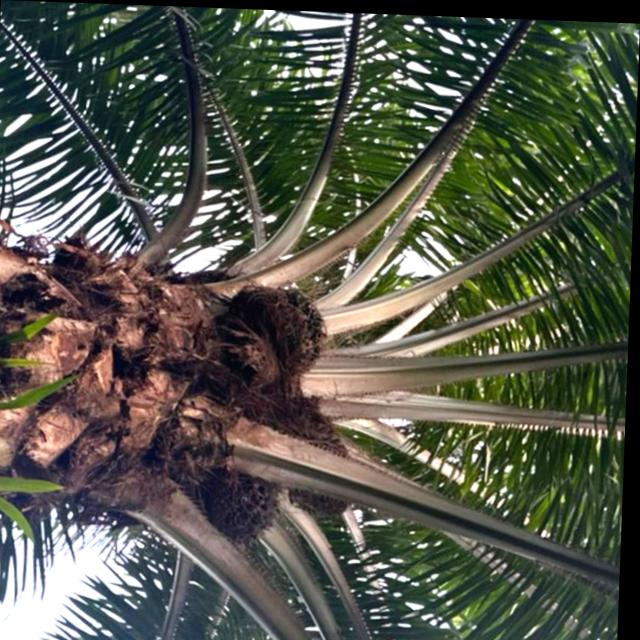unripe: (234, 276, 335, 378), (199, 468, 292, 544)
